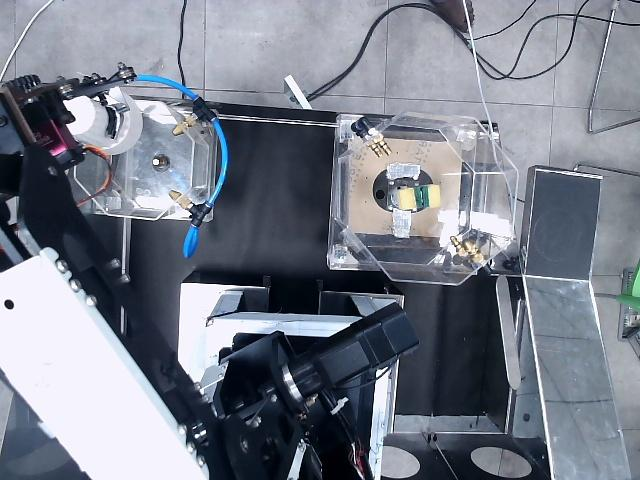cup: (64, 87, 142, 154)
